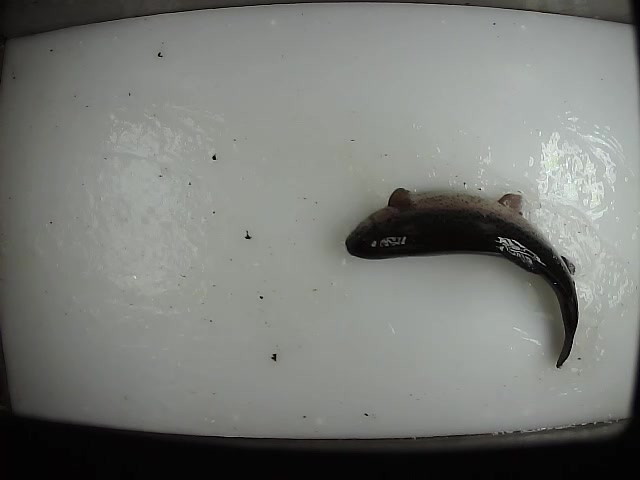Fish: (345, 187, 579, 370)
